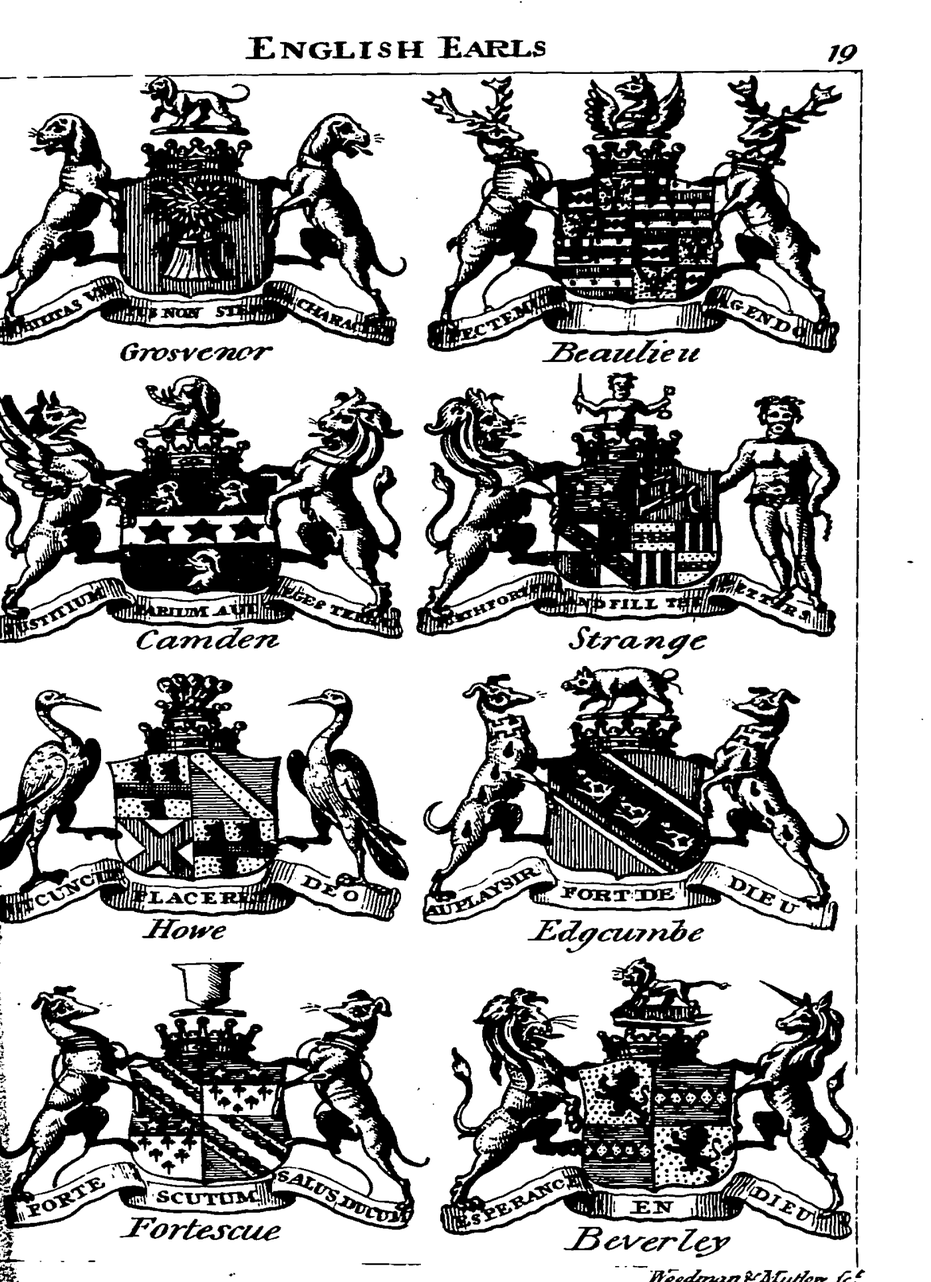coat_of_arms: (434, 949, 868, 1264), (418, 67, 853, 369), (408, 363, 843, 655), (9, 956, 426, 1252), (411, 658, 840, 944), (5, 368, 408, 662), (6, 79, 414, 367), (4, 668, 406, 947)
